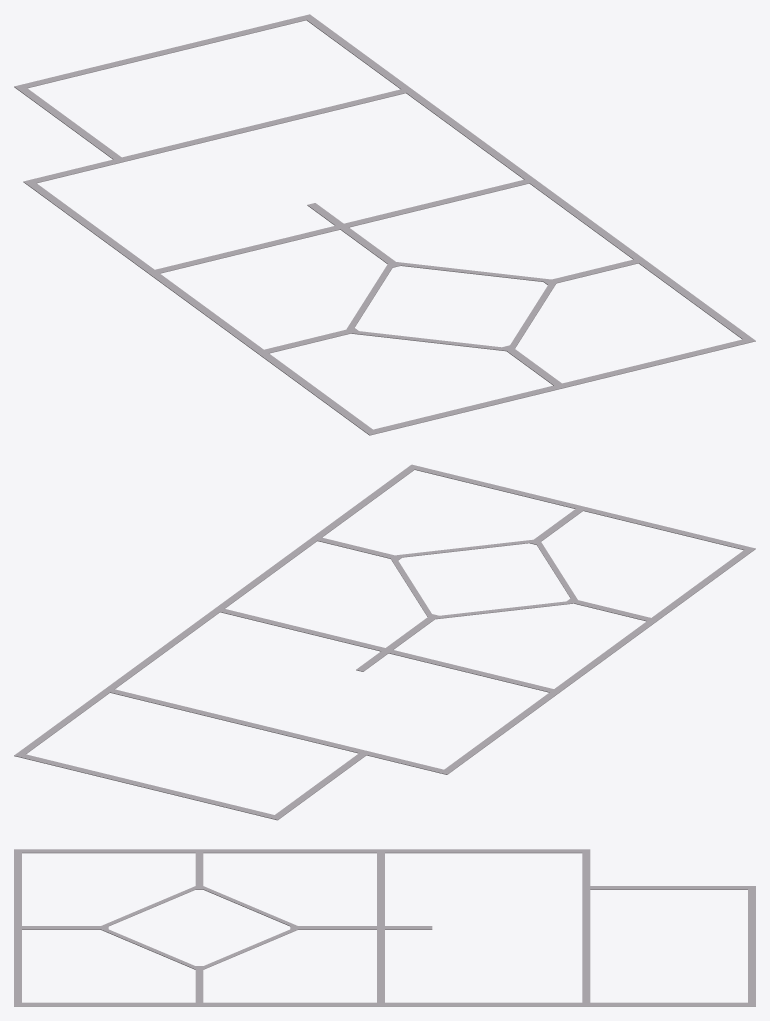
Rendered from YuruyusYolu.fbx.
The picture shows the model from 3 angles, top to bottom: view 1: azimuth 30°, elevation 25°; view 2: azimuth 150°, elevation 25°; view 3: azimuth 270°, elevation 25°; orthographic projection. The views are drawn at different scales.
Visible parts, largest first — view 1: Plane.001; view 2: Plane.001; view 3: Plane.001.
Boxes of the visible parts, x1,y1,x2,y2 form: Plane.001: (14, 14, 755, 435); Plane.001: (14, 464, 755, 820); Plane.001: (14, 849, 755, 1006).
Bounding box in the file's own units: 9400 × 15 × 18800.
